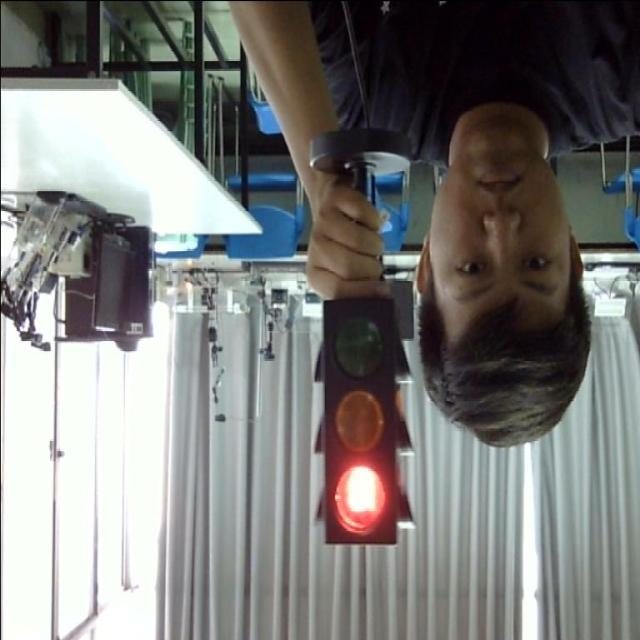red light: (332, 461, 386, 536)
